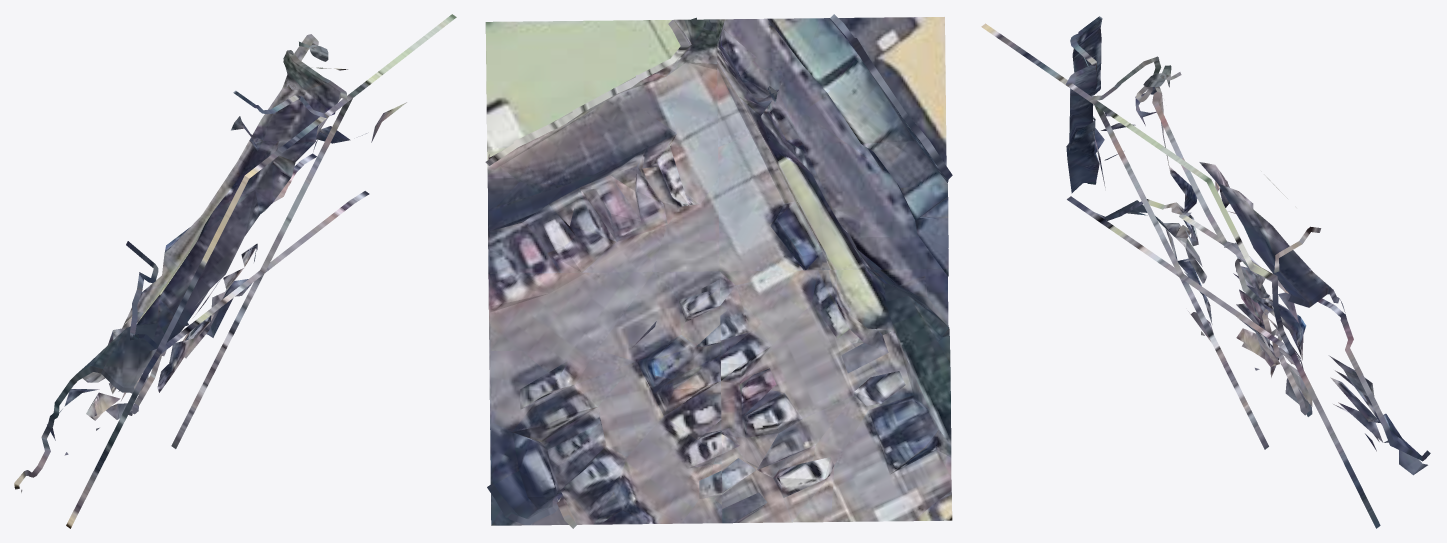
The picture shows the model from 3 angles, left to right: view 1: azimuth 30°, elevation 25°; view 2: azimuth 150°, elevation 25°; view 3: azimuth 270°, elevation 25°; orthographic projection. The views are drawn at different scales.
Size of the model in its own units: 40.72 by 37.63 by 36.25.
Materials: 2 (2 with a texture image).
